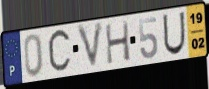0: (23, 32, 45, 78)
5: (137, 15, 159, 59)
C: (46, 26, 73, 77)
H: (104, 20, 132, 67)
U: (161, 11, 186, 57)
V: (75, 20, 106, 73)
